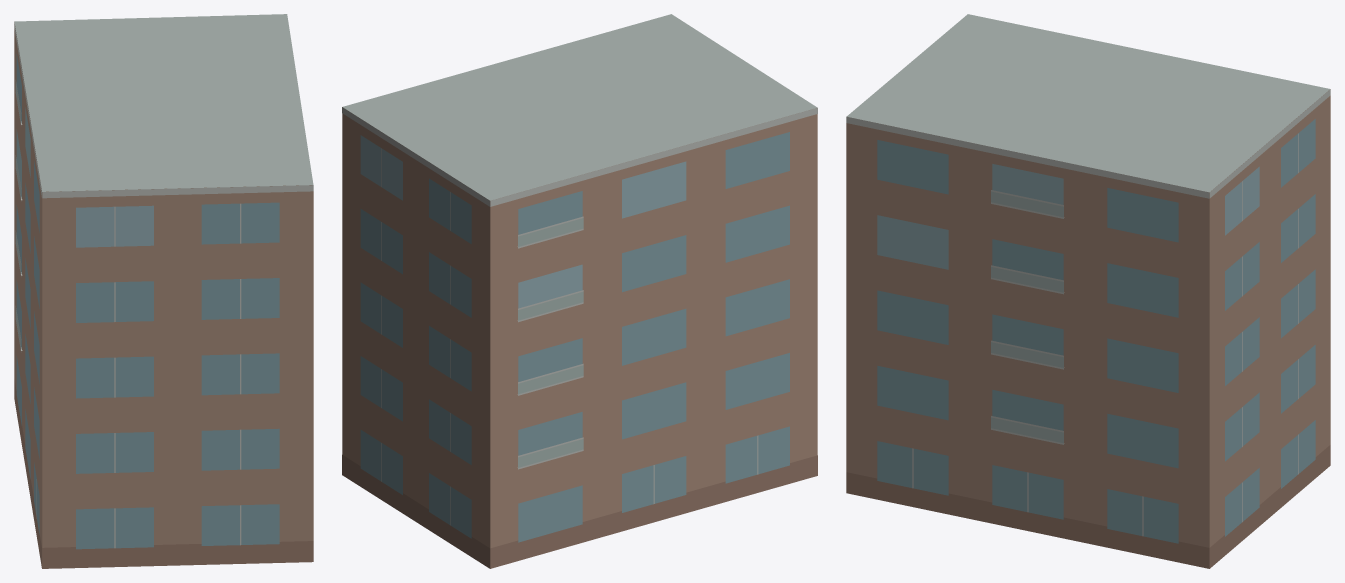
File: survey-upis-32957802.glb
3 views of the same model, side by side, from view 1: azimuth 30°, elevation 25°; view 2: azimuth 150°, elevation 25°; view 3: azimuth 270°, elevation 25° (orthographic). The views are drawn at different scales.
Parts seen in each view (by area): view 1: survey-upis-32957802.tmp; view 2: survey-upis-32957802.tmp; view 3: survey-upis-32957802.tmp.
Part boxes in pixels (x1,y1,x2,y2): survey-upis-32957802.tmp: (14, 14, 313, 568); survey-upis-32957802.tmp: (342, 14, 817, 568); survey-upis-32957802.tmp: (846, 14, 1330, 568).
Size of the model in its own units: 14.64 by 14.4 by 16.79.
